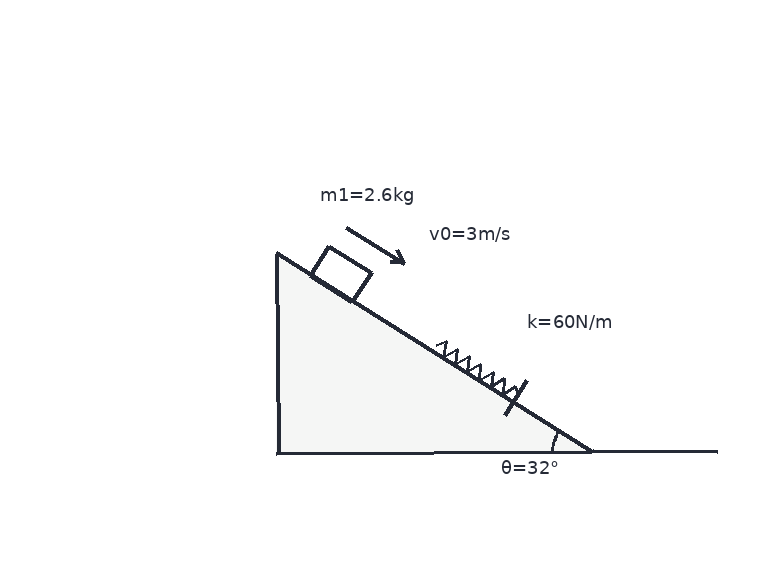block: (308, 244, 372, 304)
ramp: (275, 253, 594, 454)
spring: (434, 340, 520, 397)
